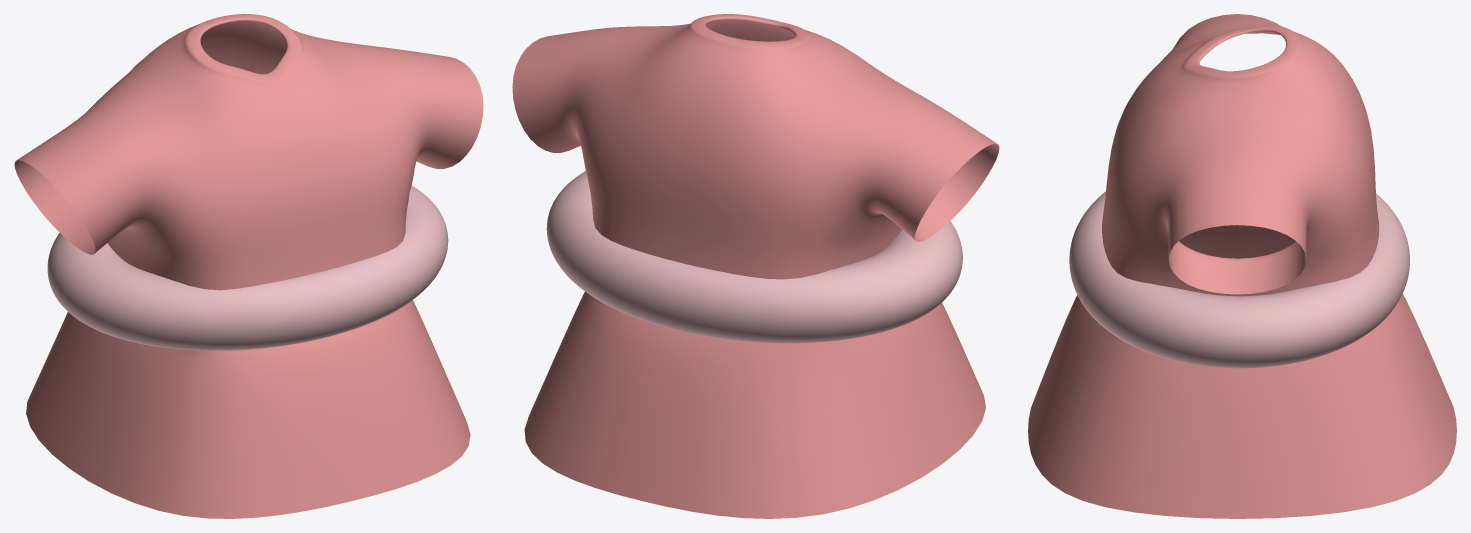
File: CH_Dress.fbx
3 views of the same model, side by side, from view 1: azimuth 30°, elevation 25°; view 2: azimuth 150°, elevation 25°; view 3: azimuth 270°, elevation 25° (orthographic). The views are drawn at different scales.
Parts seen in each view (by area): view 1: Cube.052; view 2: Cube.052; view 3: Cube.052.
Part boxes in pixels (box(x1,y1,x2,y2)): Cube.052: box(14, 14, 483, 518); Cube.052: box(512, 14, 999, 518); Cube.052: box(1028, 14, 1456, 518).
Size of the model in its own units: 162 by 139 by 139.
